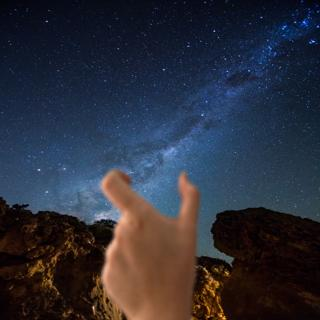HATE: (91, 165, 205, 315)
